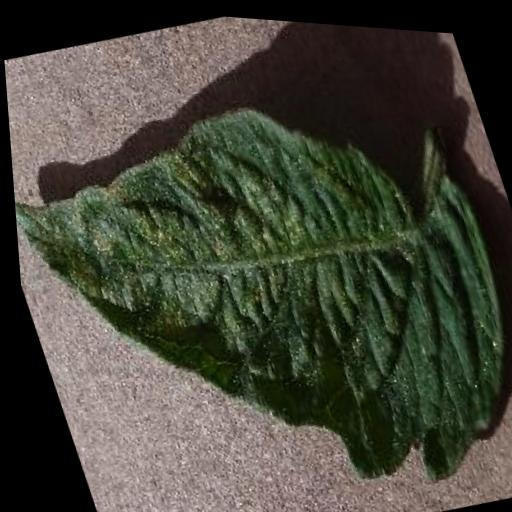Spider Mites: (2, 39, 512, 512)
